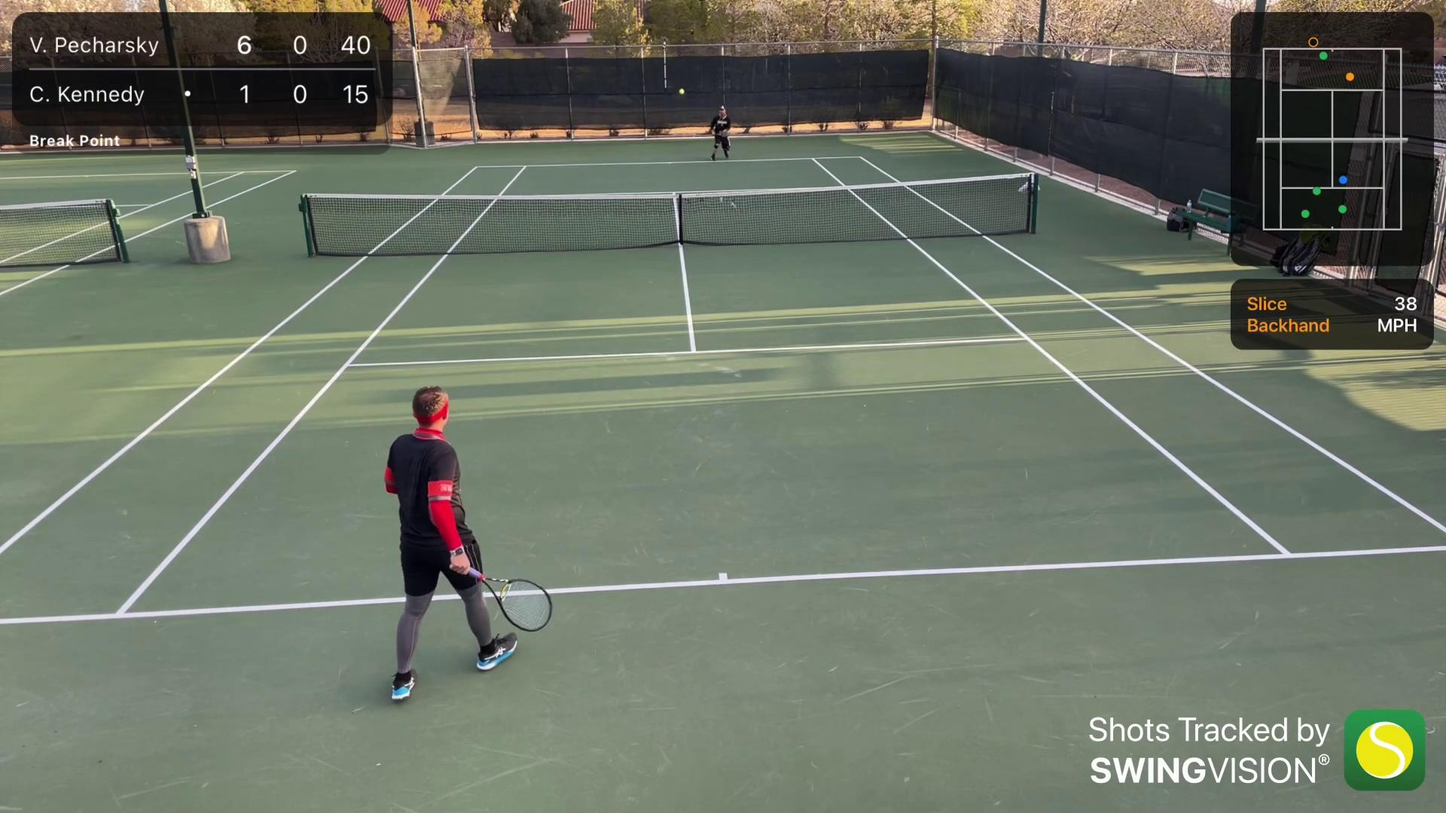ball: (679, 88, 686, 94)
